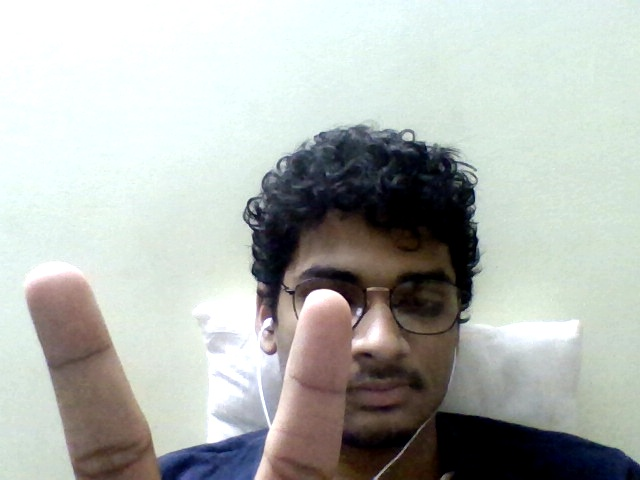ThankYou: (24, 262, 353, 480)
